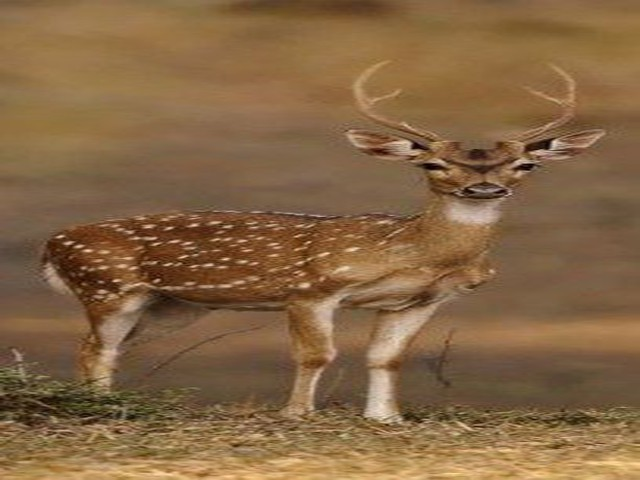deer: (23, 30, 610, 427)
